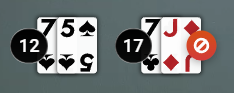5: (57, 16, 79, 40)
7: (140, 16, 162, 42), (37, 17, 58, 39)
j: (160, 16, 181, 41)
